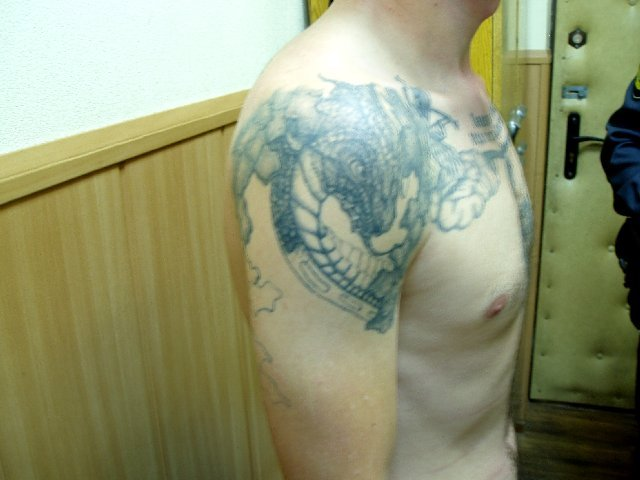tatu6_drakon: (223, 76, 443, 336)
